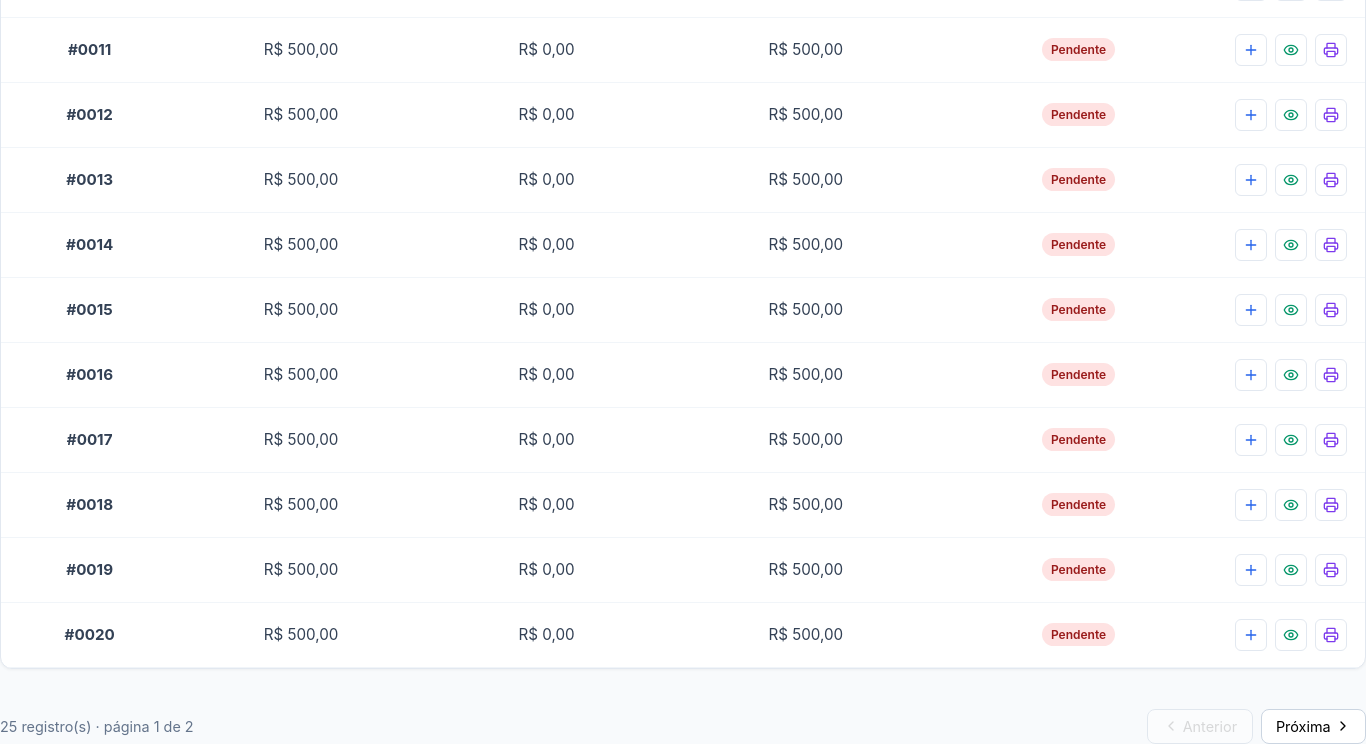
Página de Pagamentos › pesquisa e filtro (no servidor) › paginação: 'Próxima' pede a página seguinte ao servidor
(page scrolled)
What coordinates should you click on to do the following:
click the button "Próxima"
I would click on:
 (1313, 726)
Its box is [1260,709,1365,743].
(page scrolled)
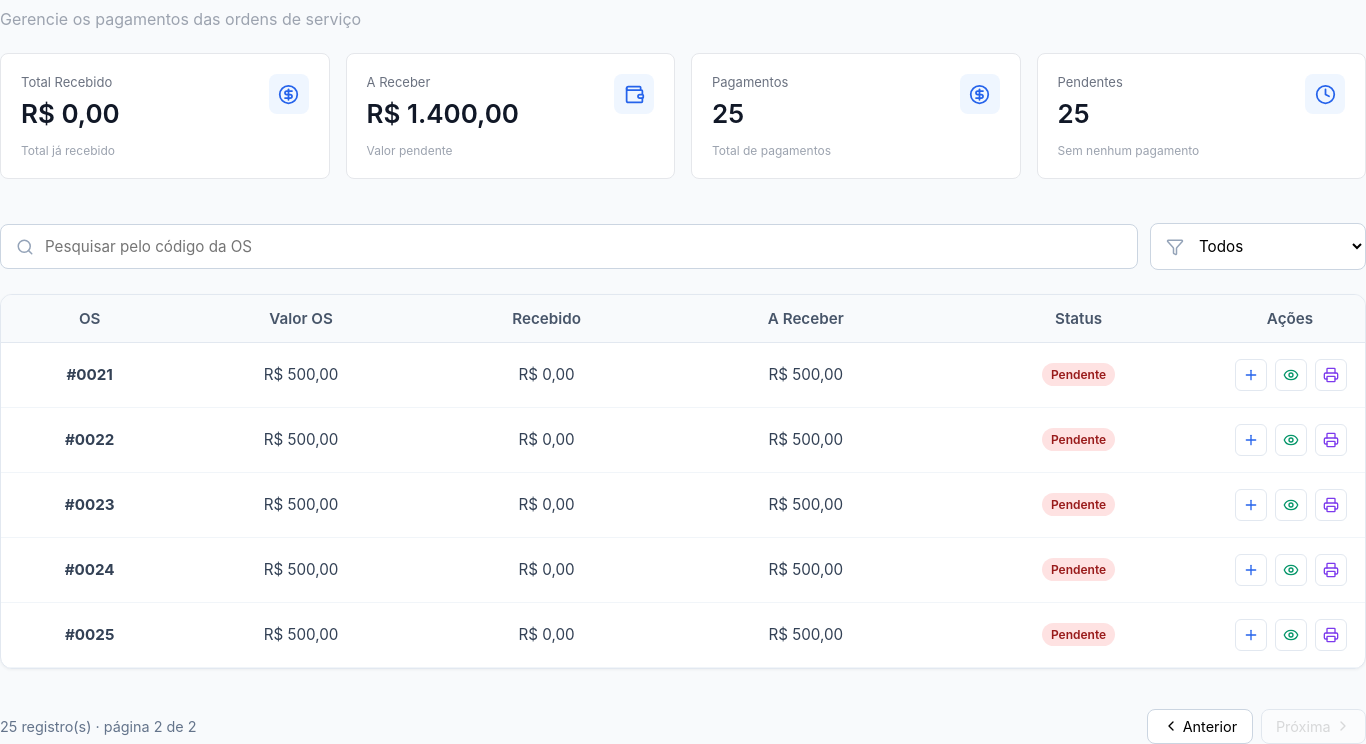
expect the text "#0021" is shown: met, box [66,365,113,384]
